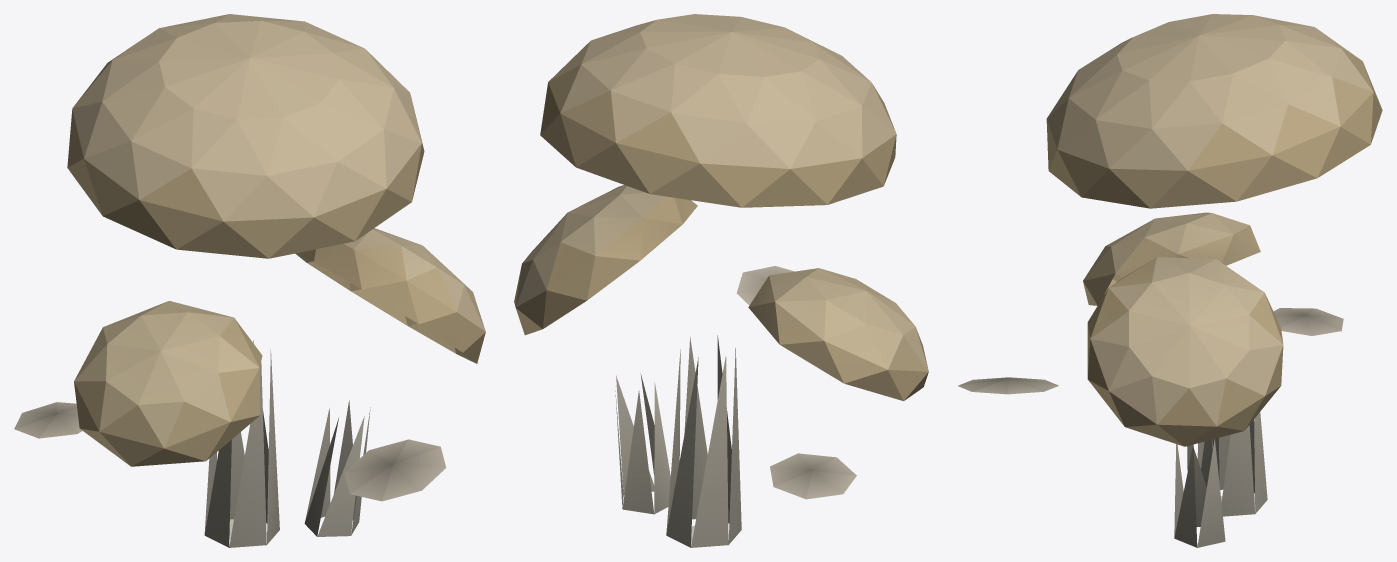
Rendered from mushroom.lod.glb.
The picture shows the model from 3 angles, left to right: view 1: azimuth 30°, elevation 25°; view 2: azimuth 150°, elevation 25°; view 3: azimuth 270°, elevation 25°; orthographic projection. The views are drawn at different scales.
Parts seen in each view (by area): view 1: mushroom; view 2: mushroom; view 3: mushroom.
Boxes of the visible parts, x1,y1,x2,y2 form: mushroom: (14,14,485,547); mushroom: (514,14,928,547); mushroom: (958,14,1382,547).
Size of the model in its own units: 1.58 by 1.92 by 1.6.
